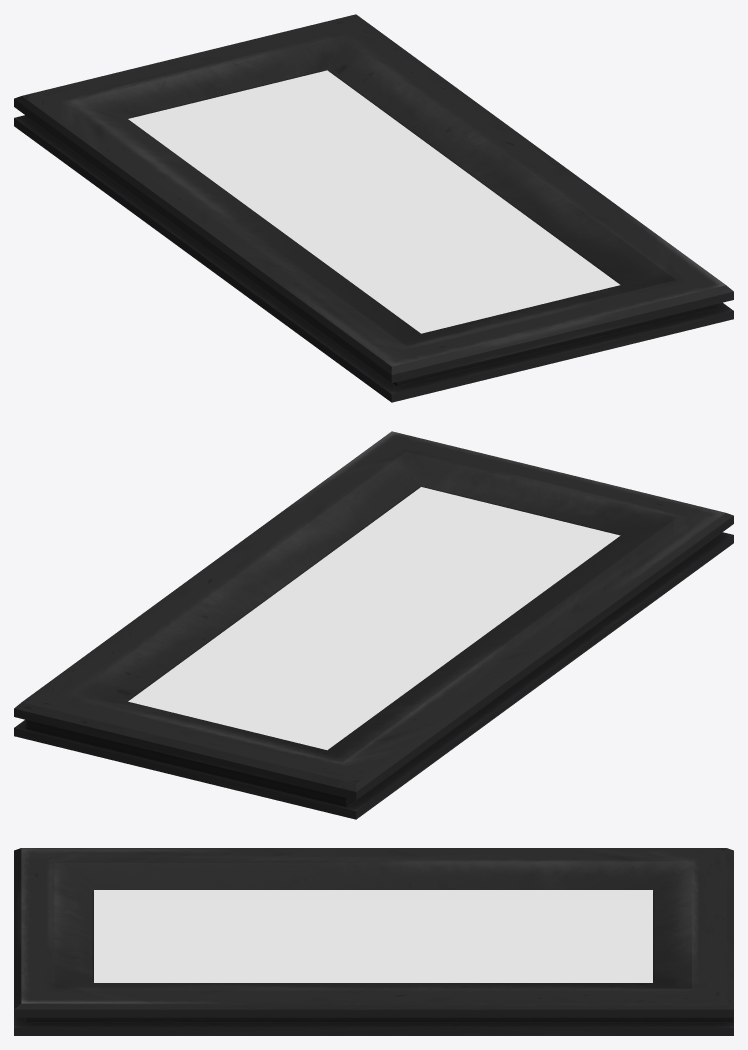
File: DigitalDisplay.NEW.glb
3 views of the same model, one above another, from view 1: azimuth 30°, elevation 25°; view 2: azimuth 150°, elevation 25°; view 3: azimuth 270°, elevation 25° (orthographic). The views are drawn at different scales.
Parts seen in each view (by area): view 1: DigitalDisplay; view 2: DigitalDisplay; view 3: DigitalDisplay.
Part boxes in pixels (x1,y1,x2,y2): DigitalDisplay: (14, 14, 733, 402); DigitalDisplay: (14, 431, 733, 819); DigitalDisplay: (14, 848, 733, 1035).
Bounding box in the file's own units: 0.0635 × 0.0057 × 0.1214.
2 materials, 1 textured.
